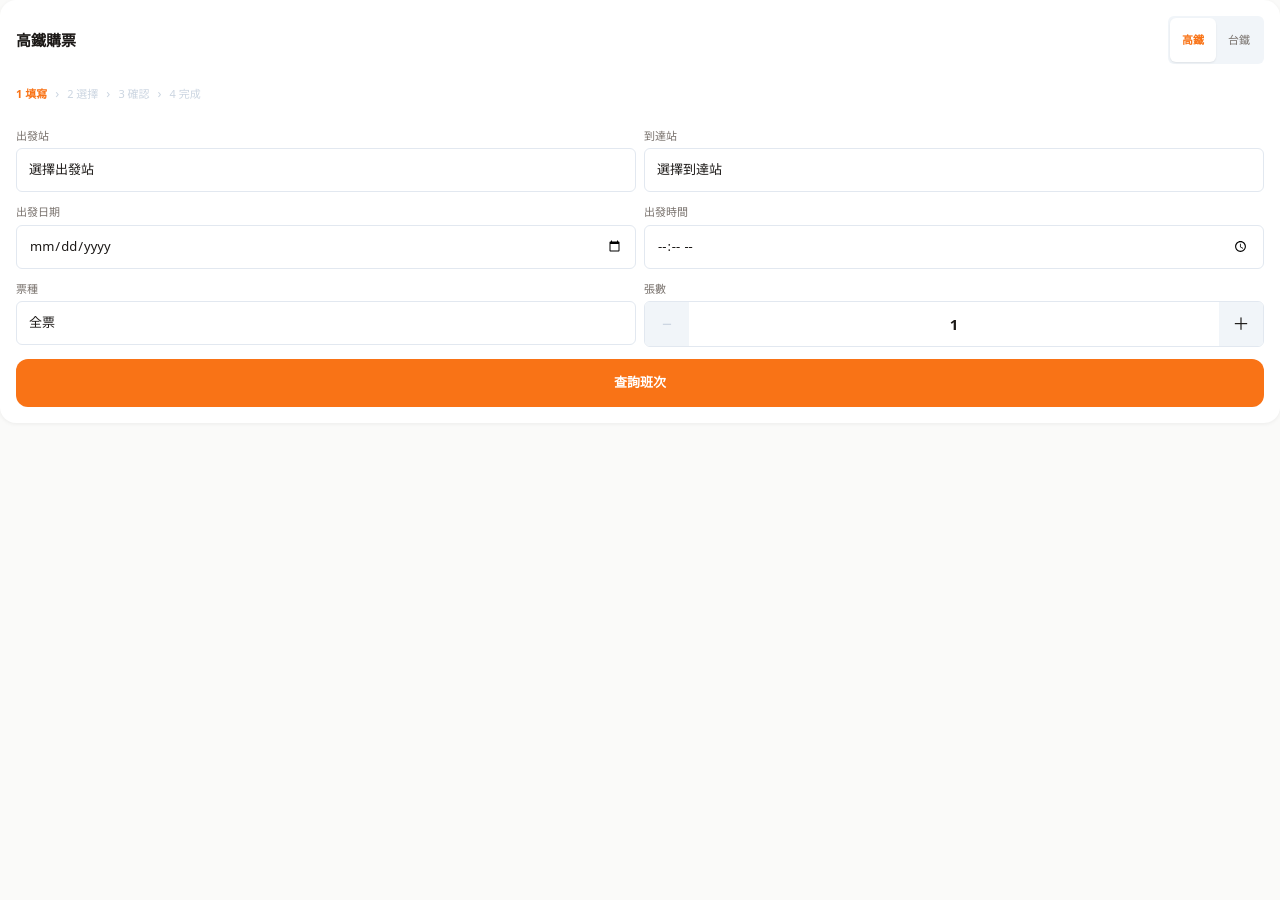
Scenario: TicketBooking › 表單驗證通過後切換至 select-train 步驟
This screenshot has width=1280, height=900.
Select "台北" in the 1st dropdown with class "field-select": (326, 170) x1=16 y1=148 x2=636 y2=192
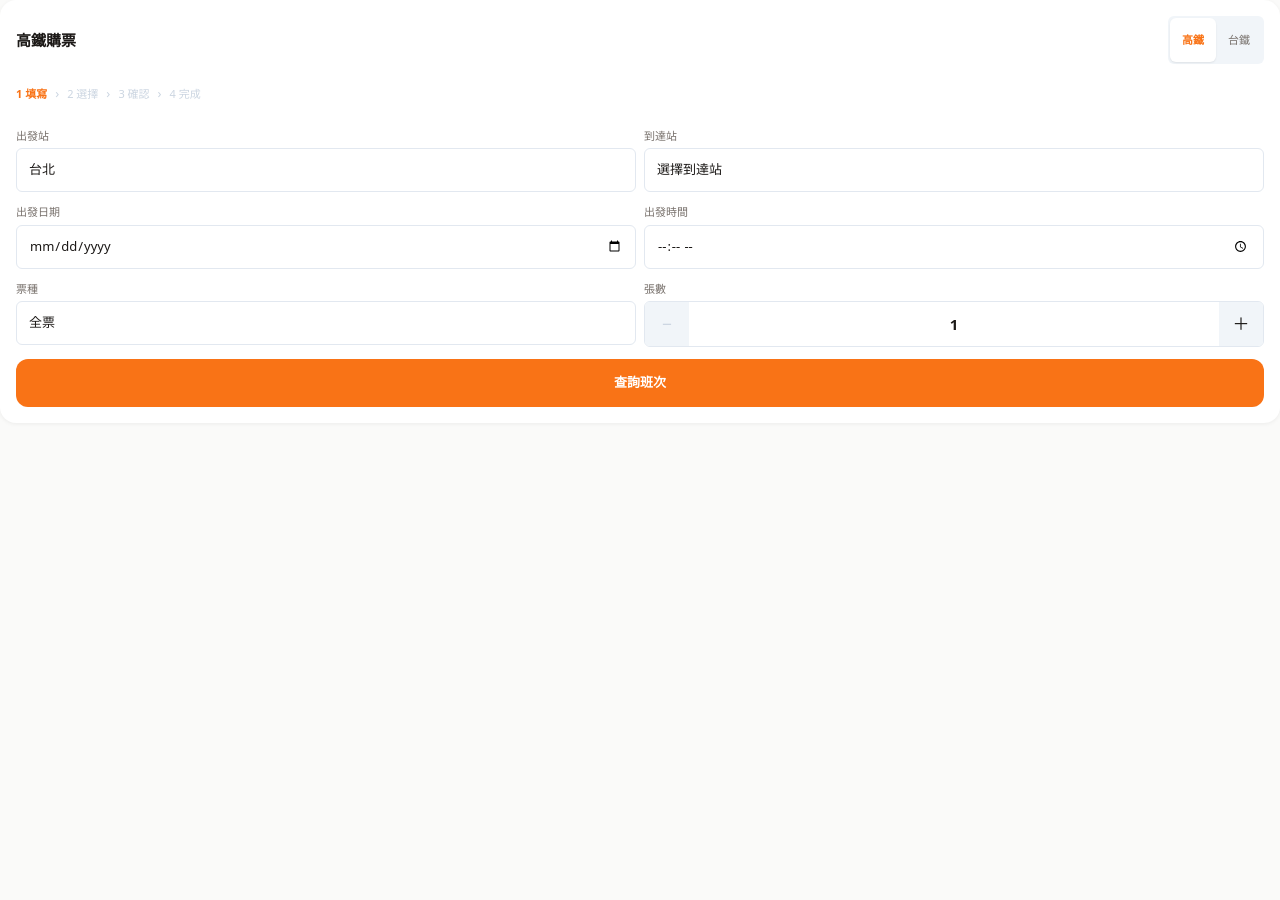
Select "左營" in the 2nd dropdown with class "field-select": (954, 170) x1=644 y1=148 x2=1264 y2=192
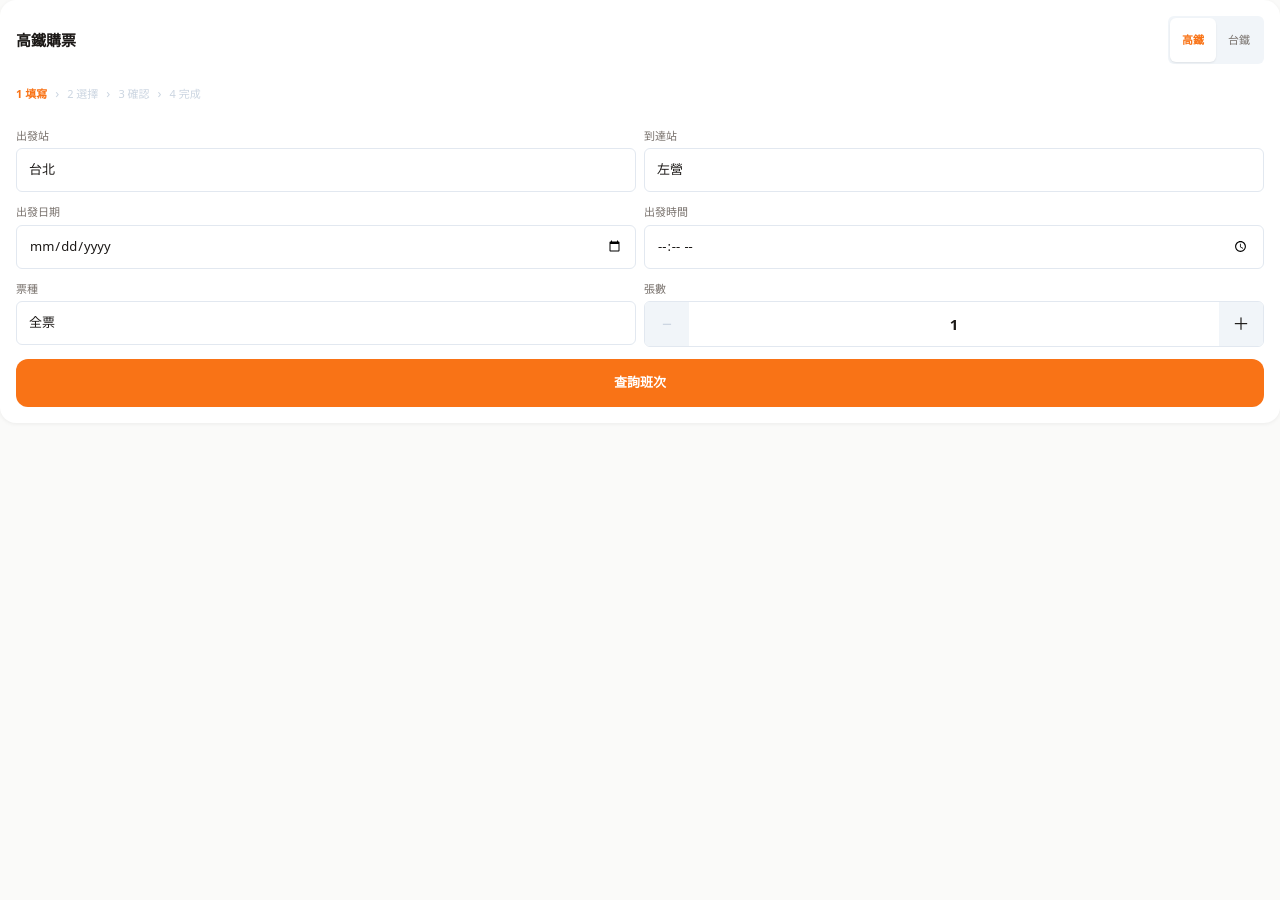
In the date field named "出發日期": (326, 246) x1=16 y1=224 x2=636 y2=268, type "2026-08-01"
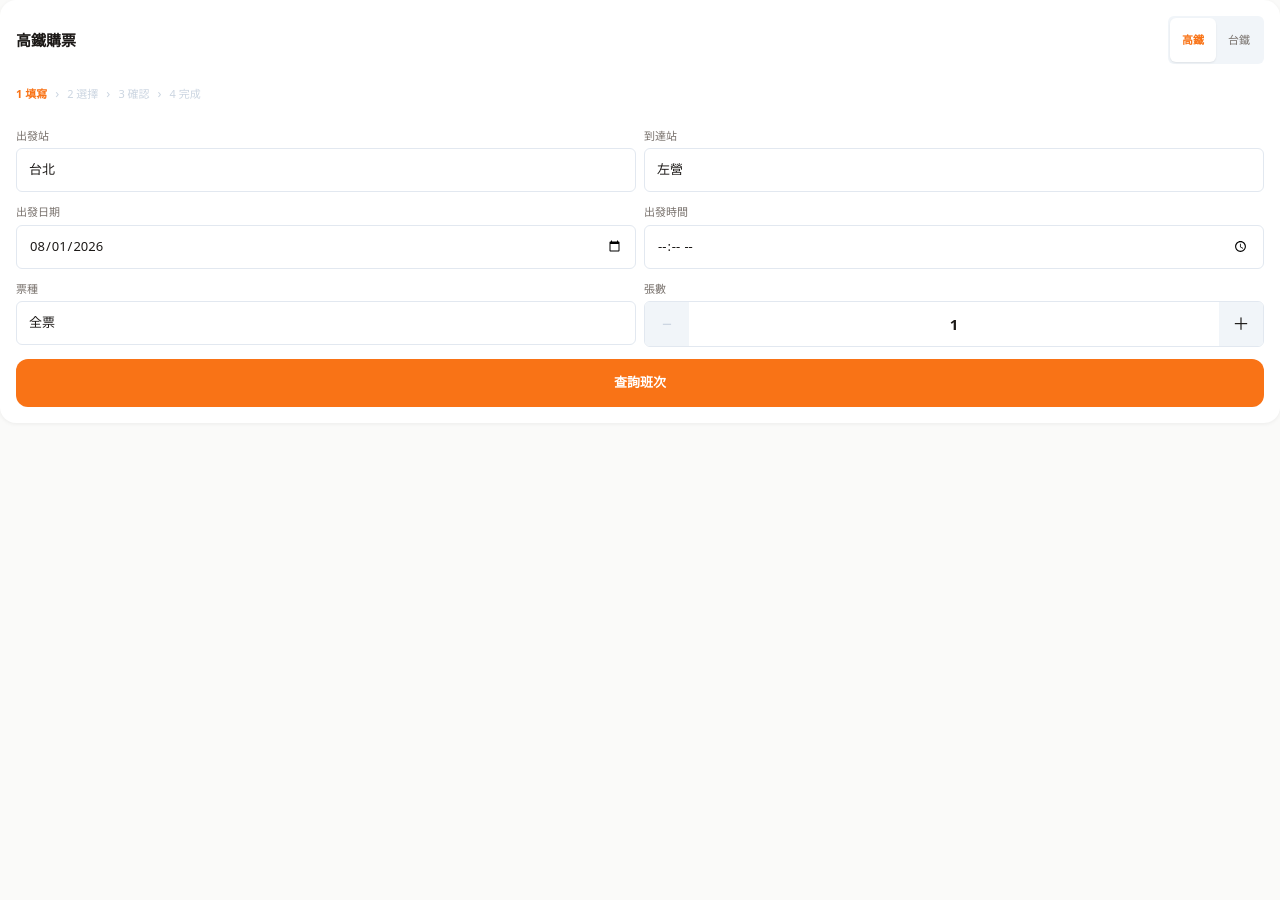
Click the button "查詢班次": (640, 383) x1=16 y1=359 x2=1264 y2=407
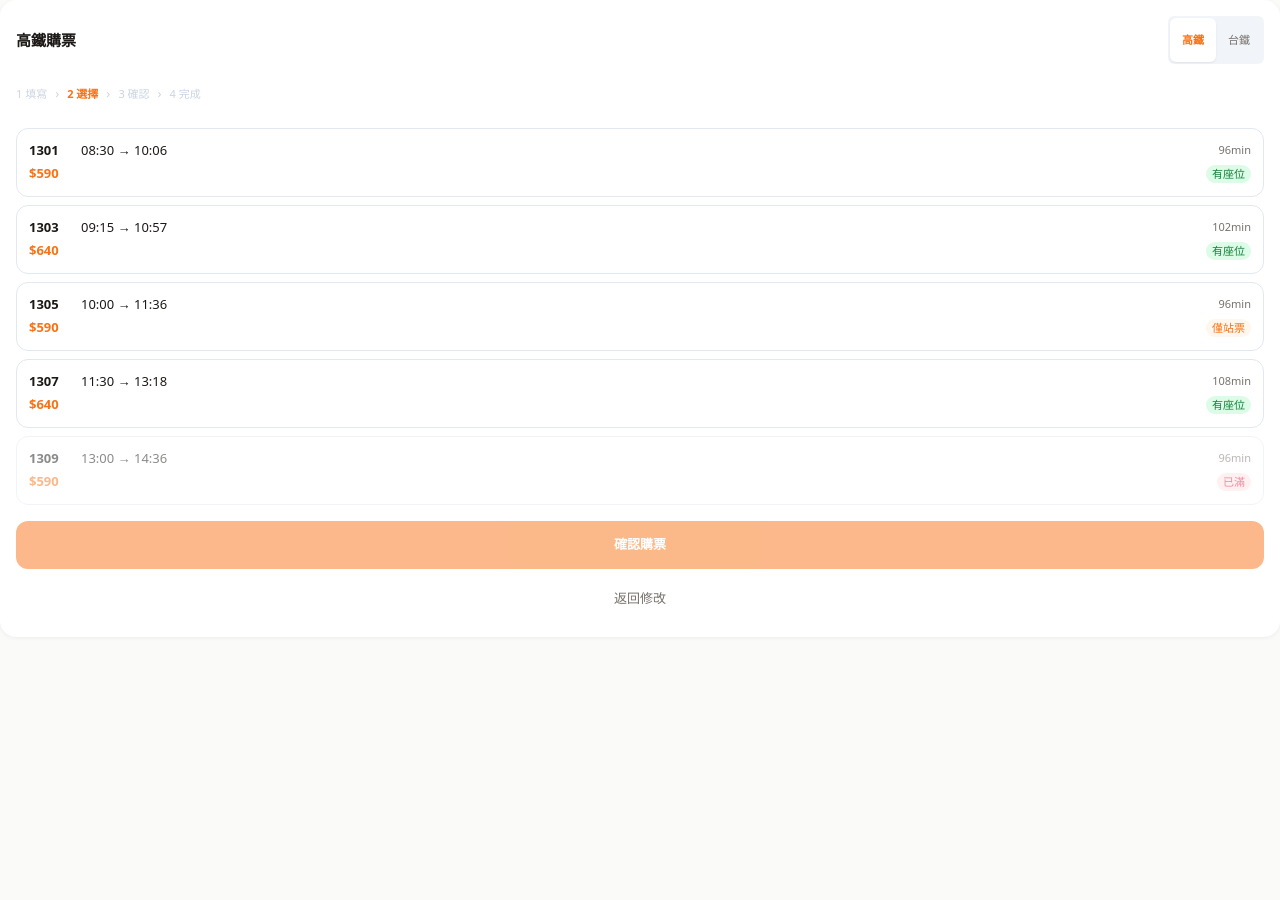
Result: the element with class "step-select" is shown at x1=16 y1=128 x2=1264 y2=620
Result: the button "1301 08:30 → 10:06 96min $590 有座位" is shown at x1=16 y1=128 x2=1264 y2=196
